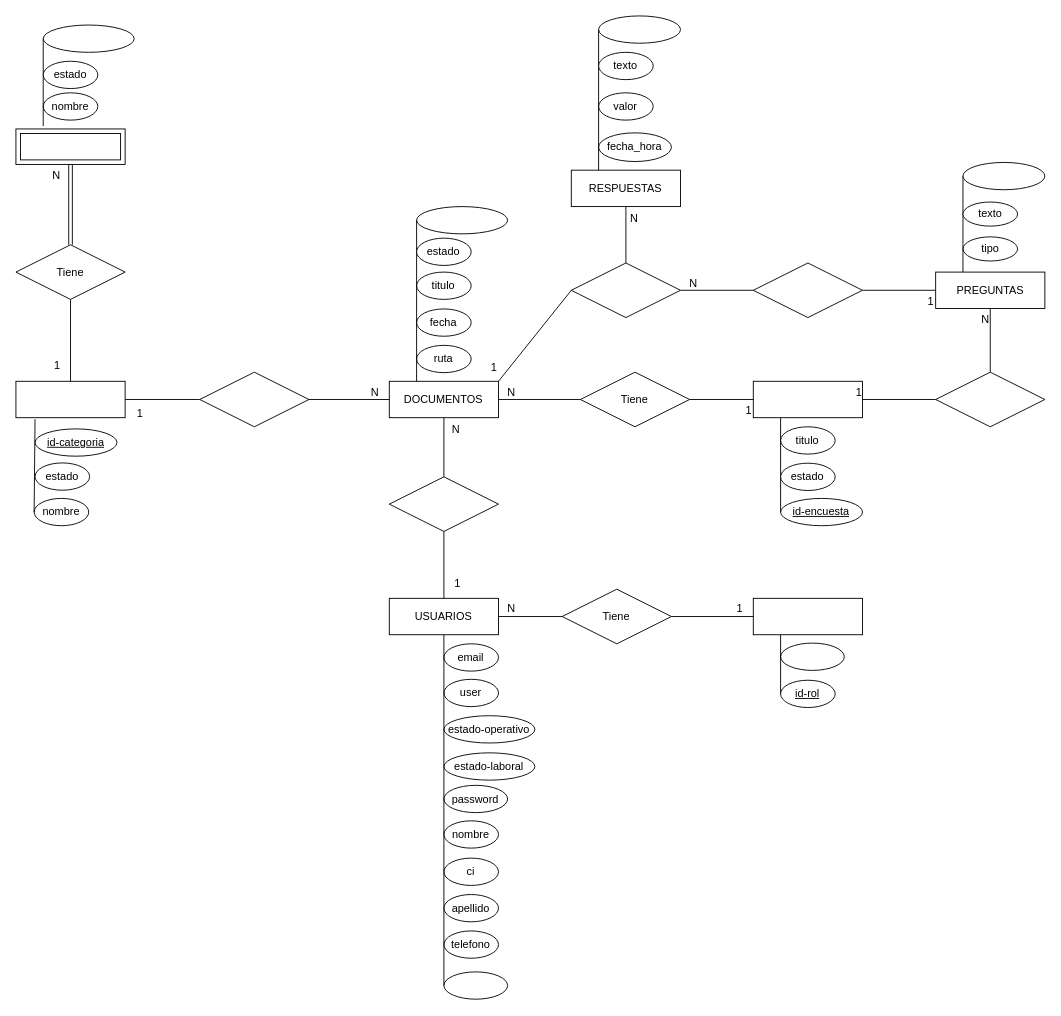
Some shapes in this 1061 by 1016 pixel diagram are drawn without their labels. Here are the shapes that lost their labels. From the top down, the centre of each, then its label:
point (88, 38): id-subcategoria
point (639, 29): id-respuesta
point (70, 146): SUBCATEGORIAS
point (1003, 176): id-pregunta
point (462, 220): id-documento
point (625, 290): Contextualiza
point (807, 290): Pertenece
point (70, 399): CATEGORIAS
point (254, 399): Clasifica
point (807, 399): ENCUESTAS
point (990, 399): Contiene
point (443, 503): Crea
point (807, 616): ROLES_USUARIO
point (812, 656): rol-nombre
point (475, 985): id-usuario
